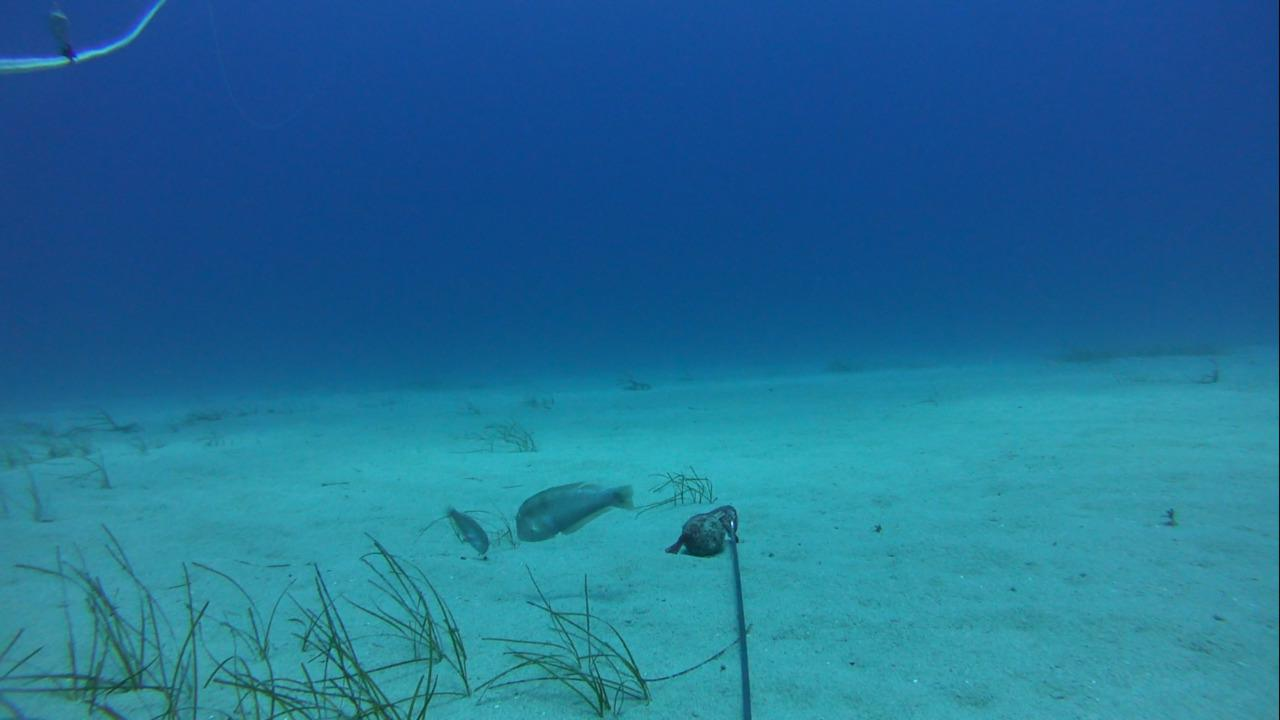raor: (512, 477, 636, 543), (441, 501, 491, 555)
